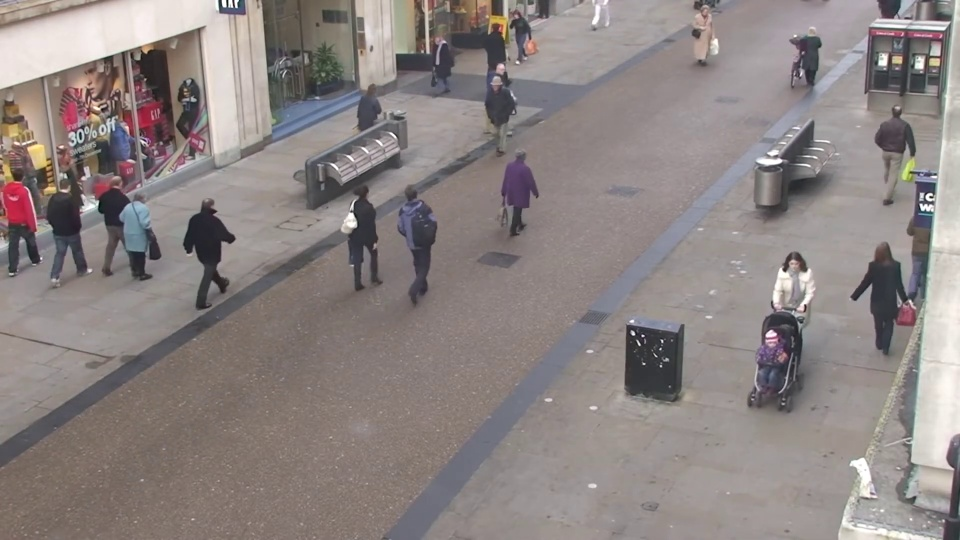pedestrian: (738, 325, 793, 476), (855, 230, 907, 357), (766, 253, 814, 385), (4, 161, 58, 267), (49, 167, 100, 274), (127, 182, 174, 292), (198, 187, 243, 299), (104, 167, 151, 273), (355, 177, 395, 290), (400, 173, 439, 284), (873, 99, 915, 193), (510, 141, 544, 244), (366, 77, 396, 162), (479, 78, 508, 164), (495, 62, 523, 143), (795, 22, 825, 94), (423, 30, 449, 101), (489, 18, 513, 87), (693, 4, 717, 70), (503, 7, 527, 72)
